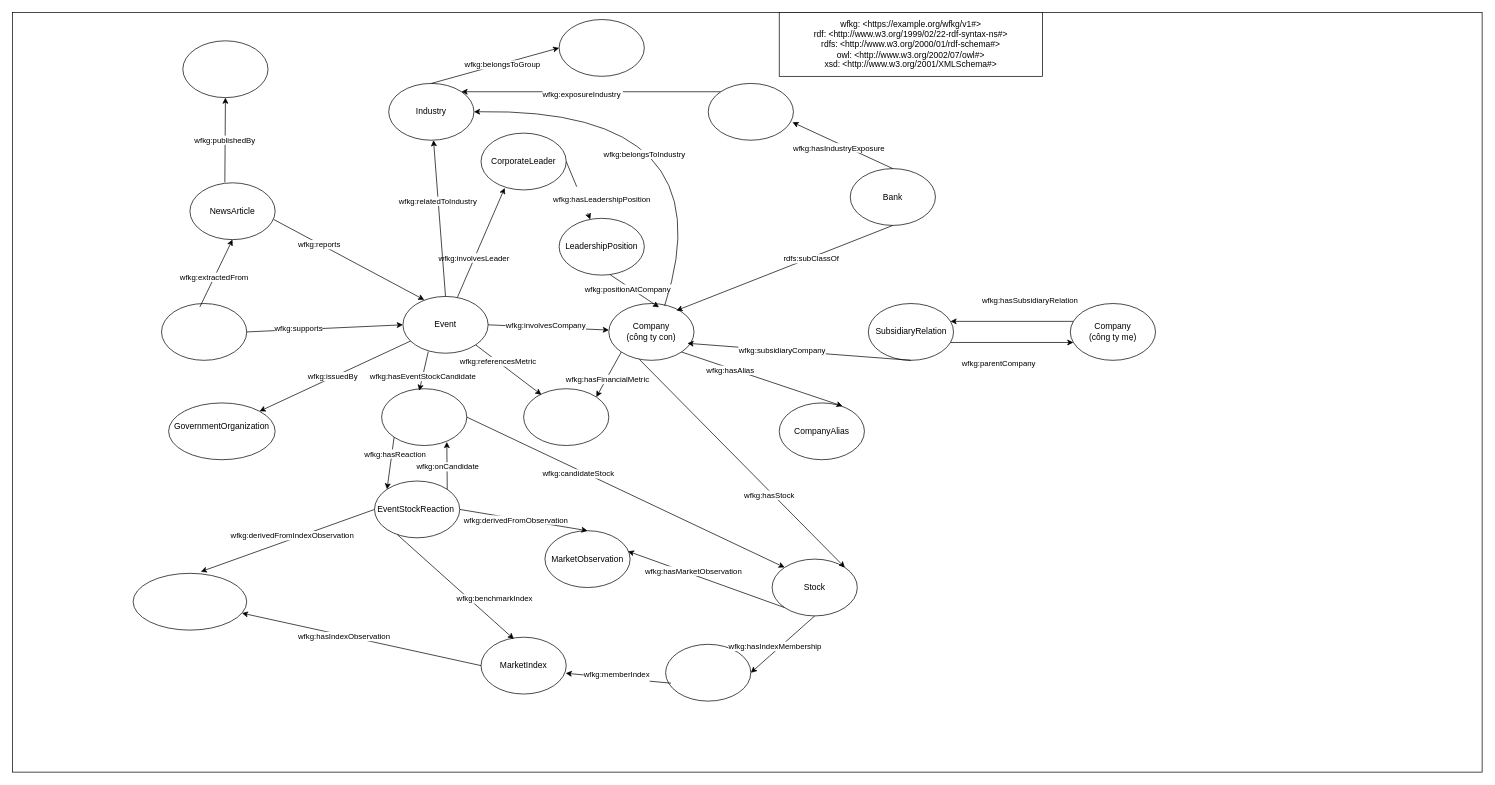
Image size: 1495x785. Some labels were removed from this diagram. Here are the shapes that lost their labels. From the top down, the centre of each, then its label:
At (x=601, y=47): "IndustryGroup".
At (x=225, y=69): "NewsSource".
At (x=750, y=111): "IndustryExposure".
At (x=204, y=331): "Evidence".
At (x=424, y=417): "EventStockCandidate".
At (x=566, y=417): "FinancialMetric".
At (x=189, y=601): "MarketIndexObservation".
At (x=708, y=672): "IndexMembership".
